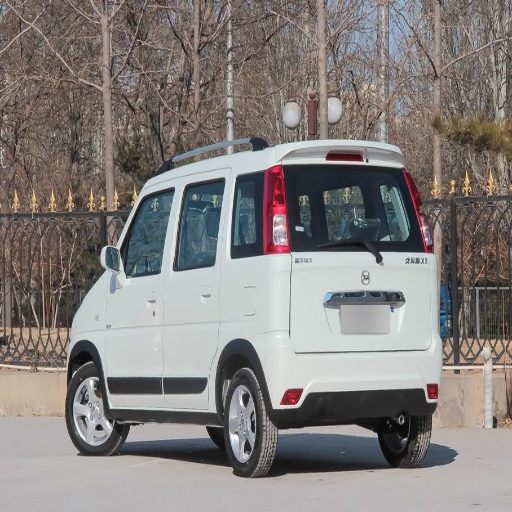back_bumper: (281, 349, 439, 413)
back_glass: (289, 164, 410, 247)
back_left_door: (166, 183, 234, 406)
trunk: (223, 246, 438, 406)
